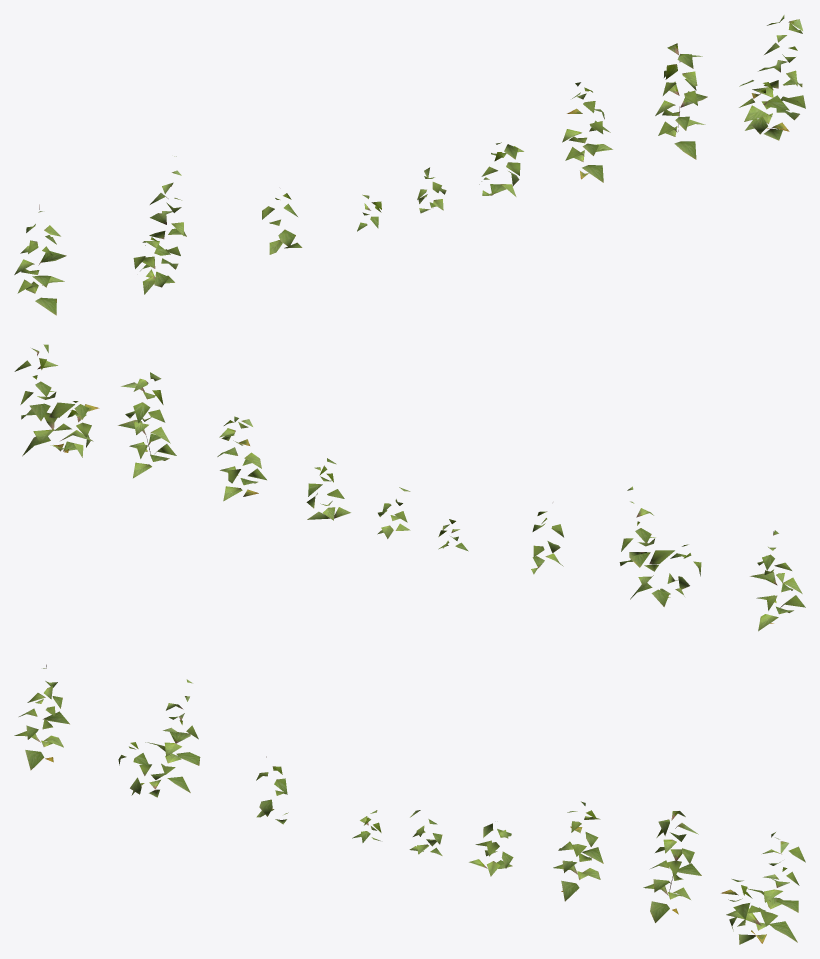
Rendered from shrub_01_wood.glb.
The picture shows the model from 3 angles, top to bottom: view 1: azimuth 30°, elevation 25°; view 2: azimuth 150°, elevation 25°; view 3: azimuth 330°, elevation 25°; orthographic projection. The views are drawn at different scales.
Visible parts, largest first — view 1: shrub_01_a; view 2: shrub_01_a; view 3: shrub_01_a.
Boxes of the visible parts, box(x1,y1,x2,y2) form: shrub_01_a: box(14, 15, 805, 315); shrub_01_a: box(14, 344, 805, 631); shrub_01_a: box(14, 664, 805, 944).
Bounding box in the file's own units: 2.59 × 0.3668 × 0.205.
Materials: 1 (1 with a texture image).
